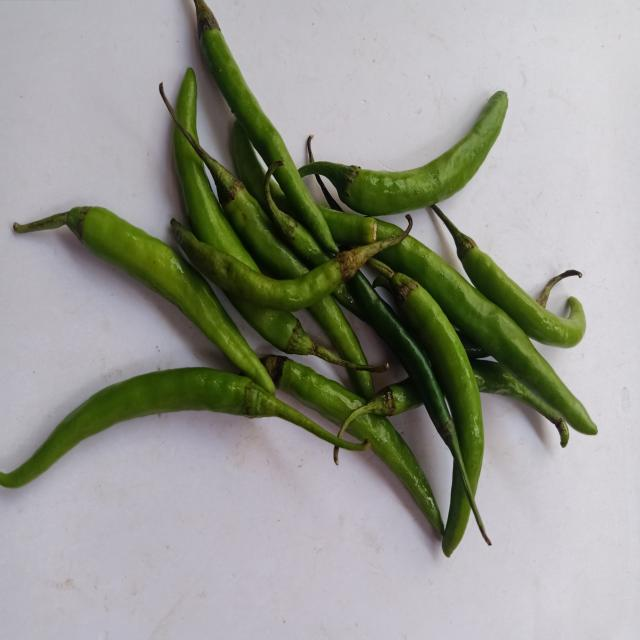Green Chilly: (0, 367, 371, 488), (65, 206, 275, 394), (194, 0, 338, 252), (298, 90, 509, 215), (170, 214, 413, 311), (433, 204, 586, 347), (390, 272, 485, 494), (443, 467, 471, 556)
